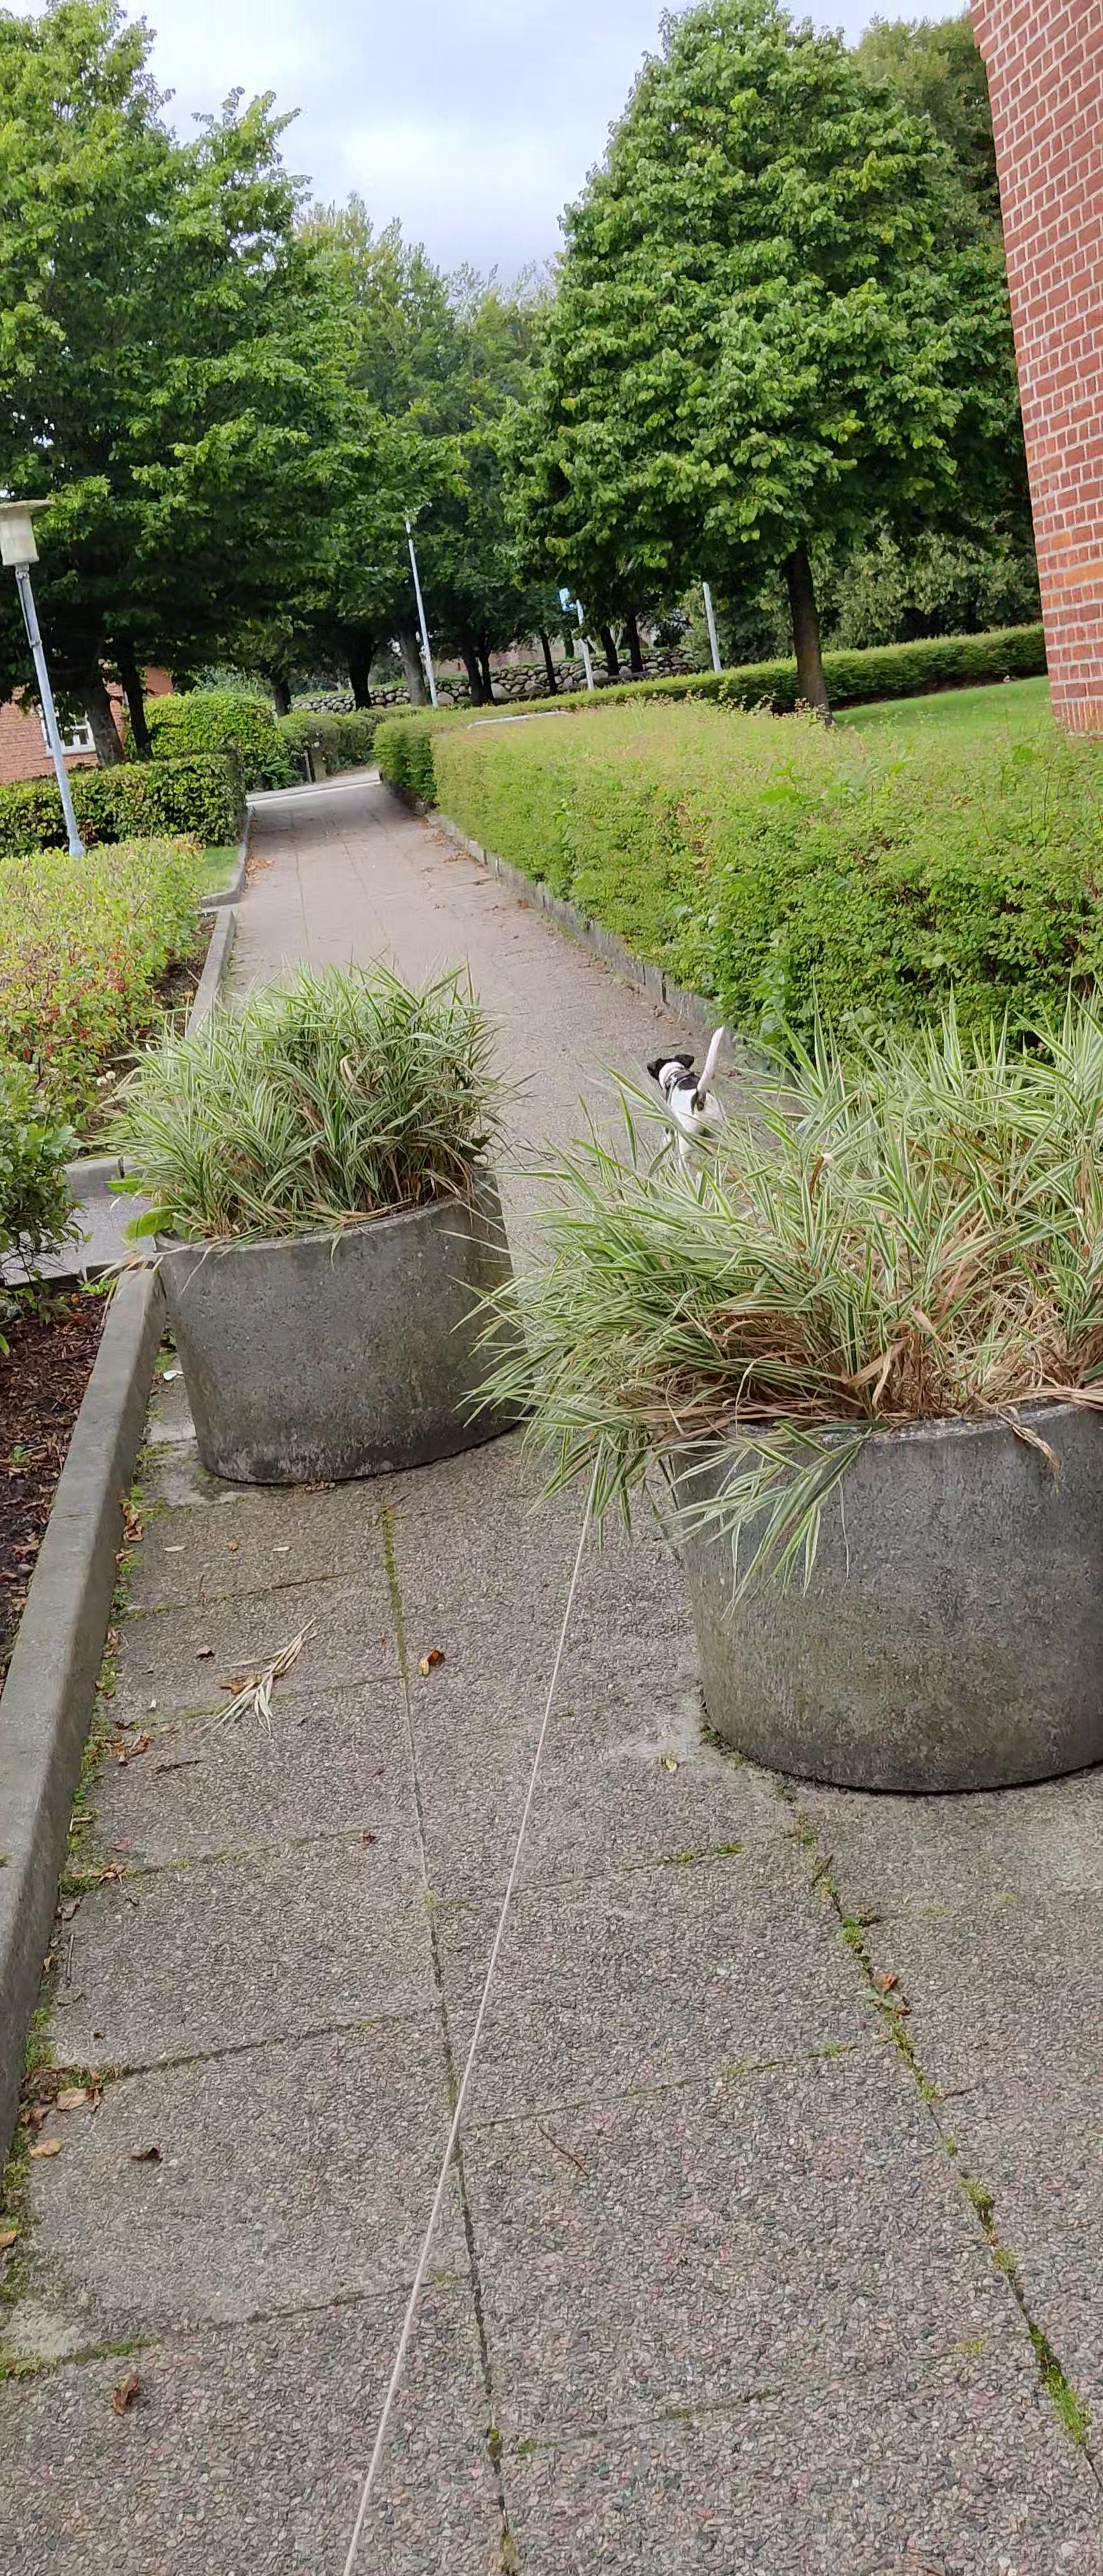Dog: (643, 1019, 733, 1178)
